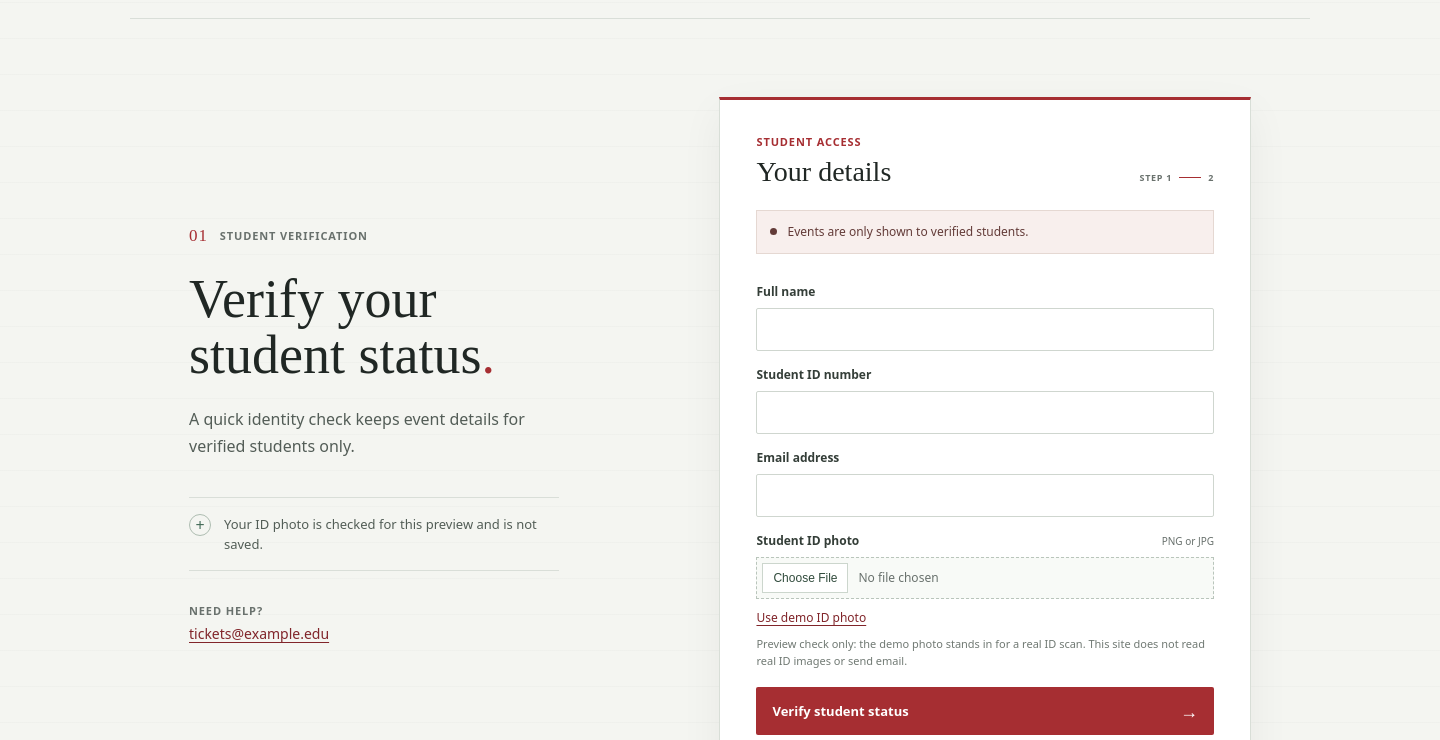
Test: HW3 Story 7: Reserve event tickets for attendees › shows the 10-minute hold, total, and refund policy
Type "Jamie Rivera" into the field labelled "Full name".
click(985, 330); type("Jamie Rivera")  # box [756,308,1214,351]
Type "A1234567" into the field labelled "Student ID number".
click(985, 412); type("A1234567")  # box [756,391,1214,434]
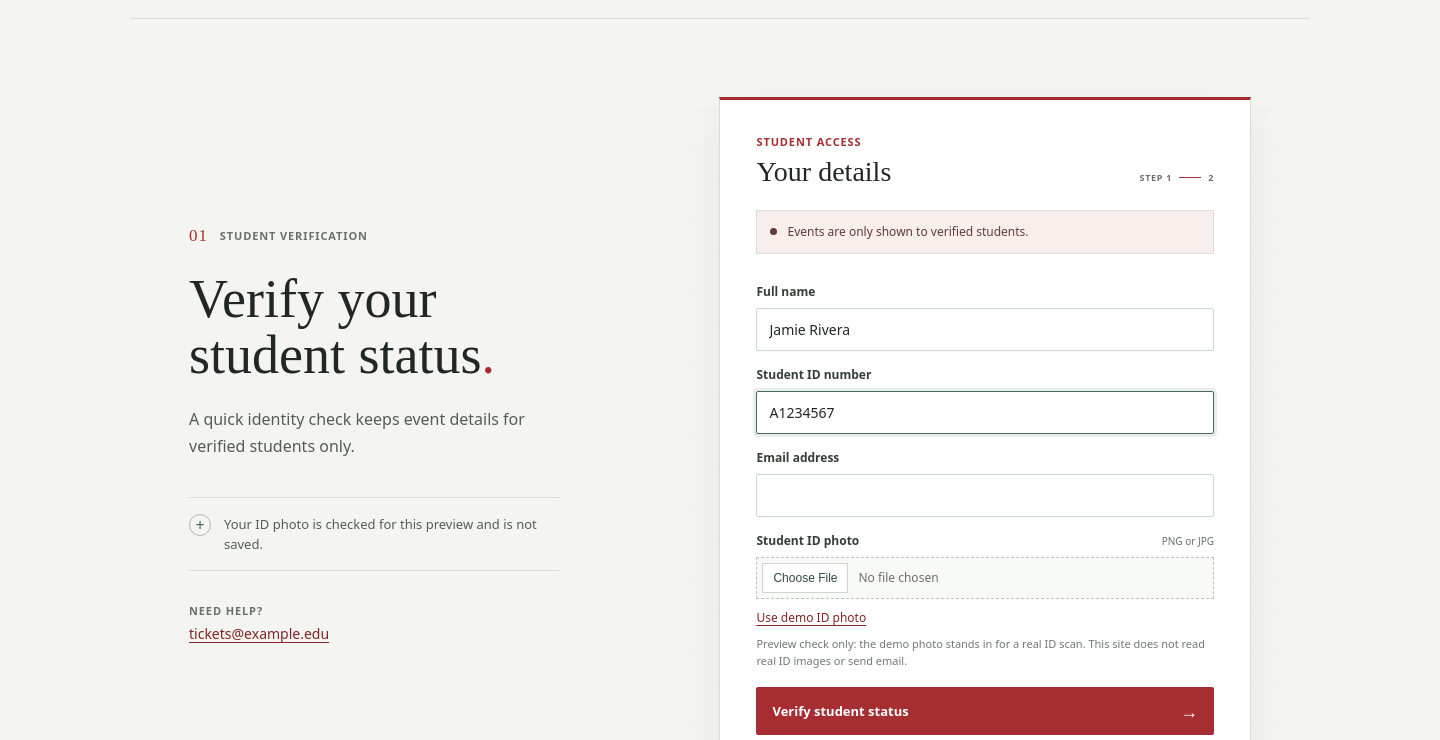
Type "jamie@example.edu" into the field labelled "Email address".
click(985, 496); type("jamie@example.edu")  # box [756,474,1214,517]
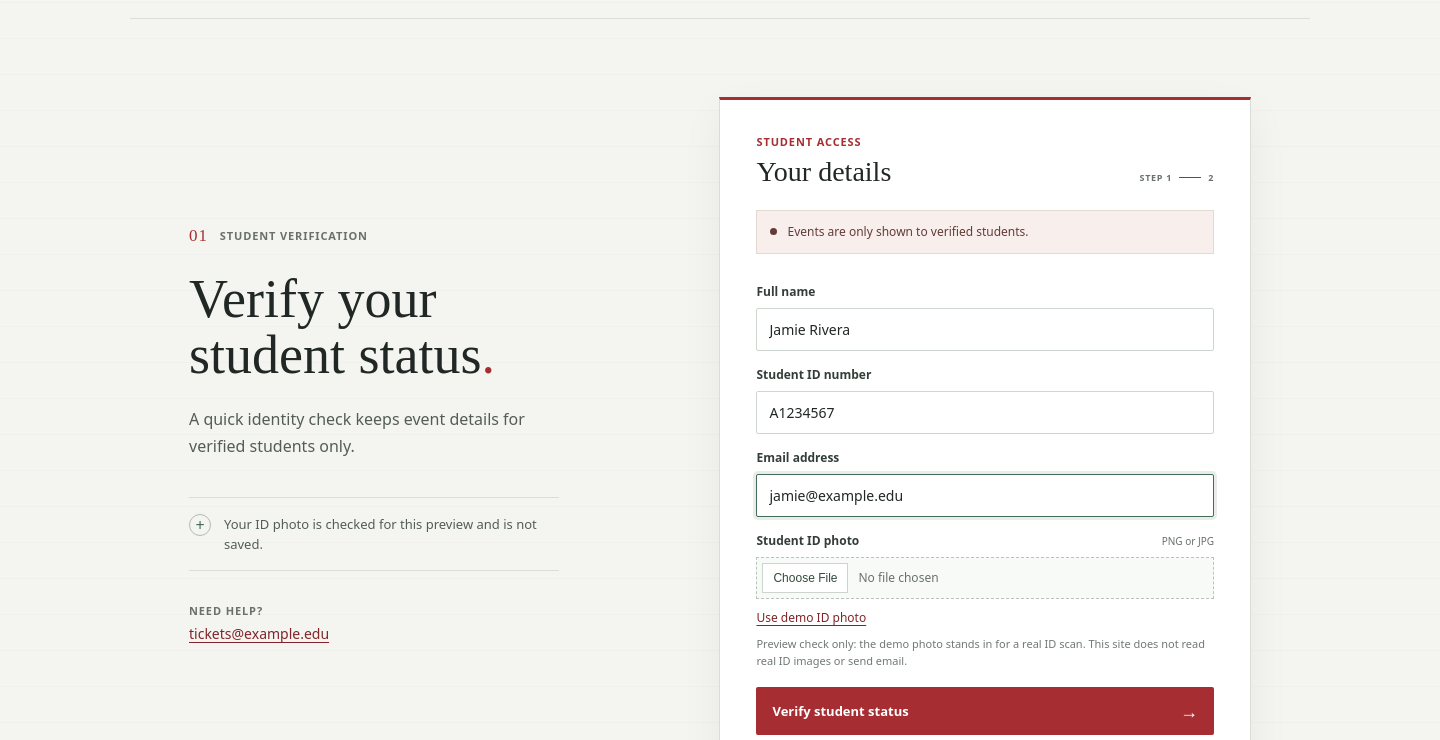
Click the button "Use demo ID photo".
click(811, 618)  # box [756,607,866,628]
(page scrolled)
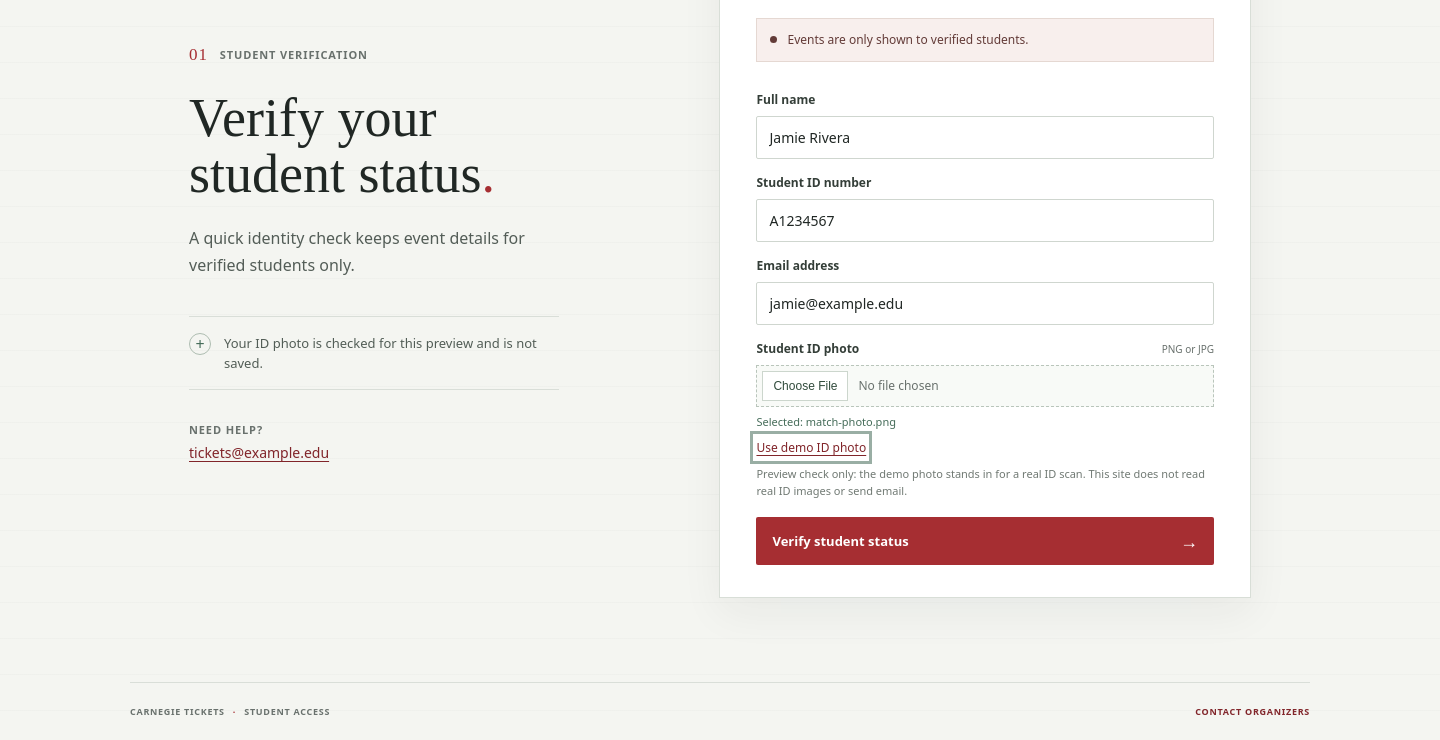
Click the button "Verify student status →".
click(841, 541)  # box [756,517,1214,565]
(page scrolled)
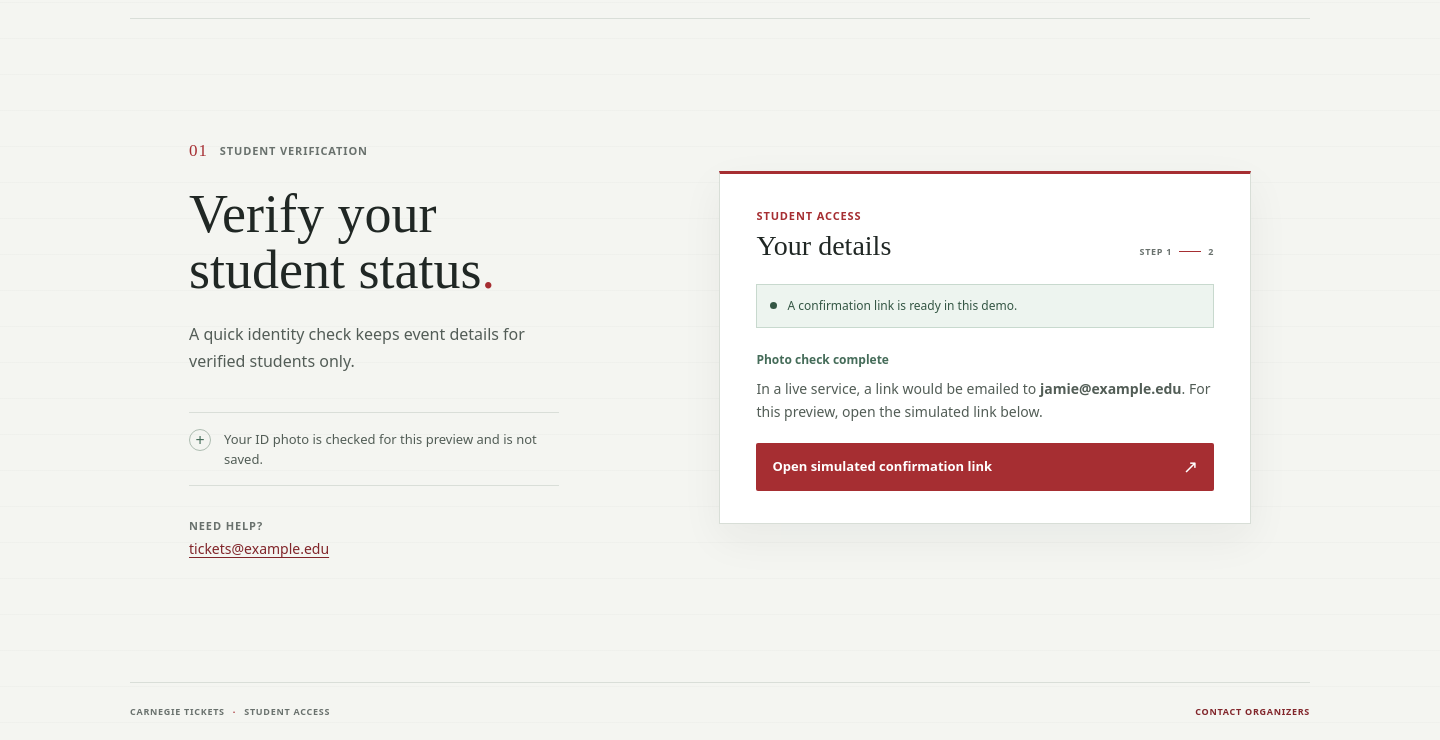
Click the button "Open simulated confirmation link ↗".
click(985, 467)  # box [756,443,1214,491]
(page scrolled)
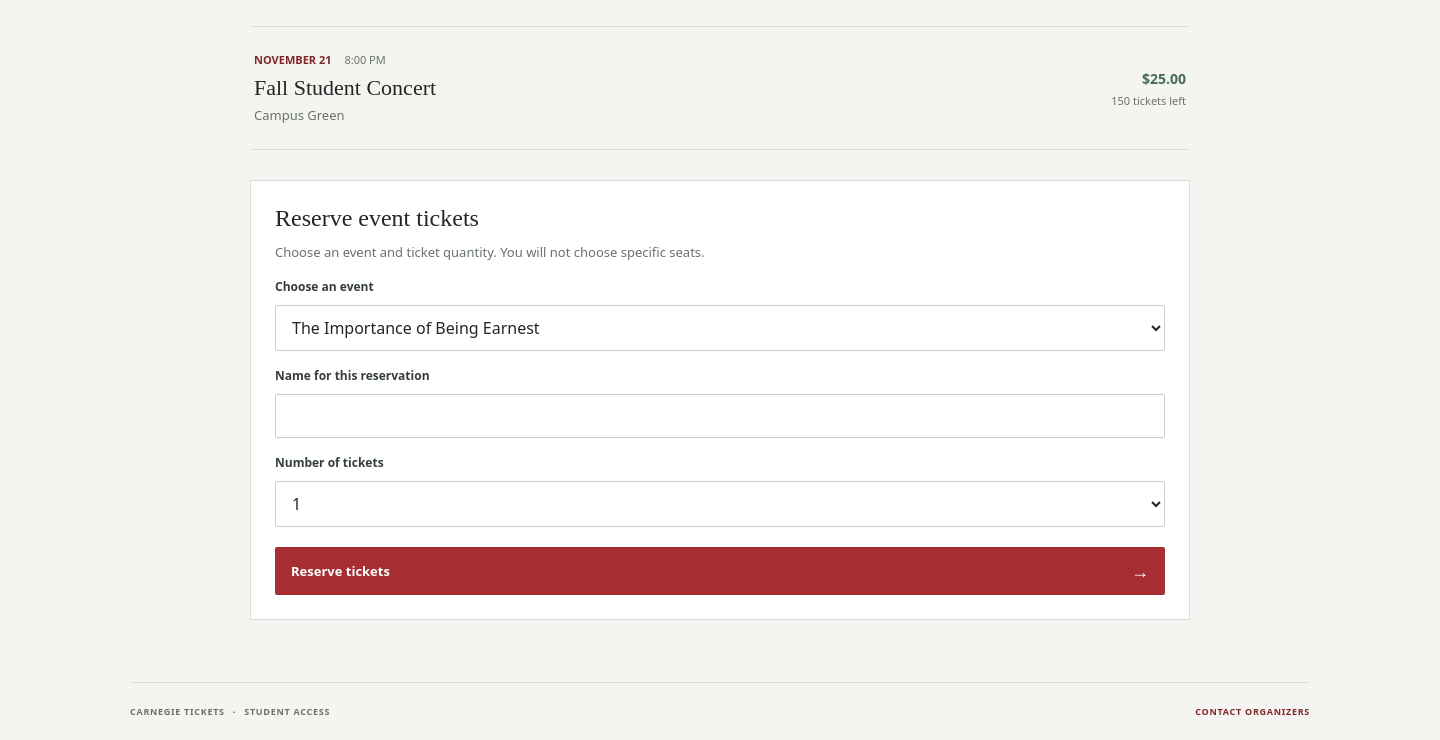
Type "Jamie Rivera" into the field labelled "Name for this reservation".
click(720, 416); type("Jamie Rivera")  # box [275,394,1165,438]
Click the button "Reserve tickets →".
click(340, 571)  # box [275,547,1165,595]
(page scrolled)
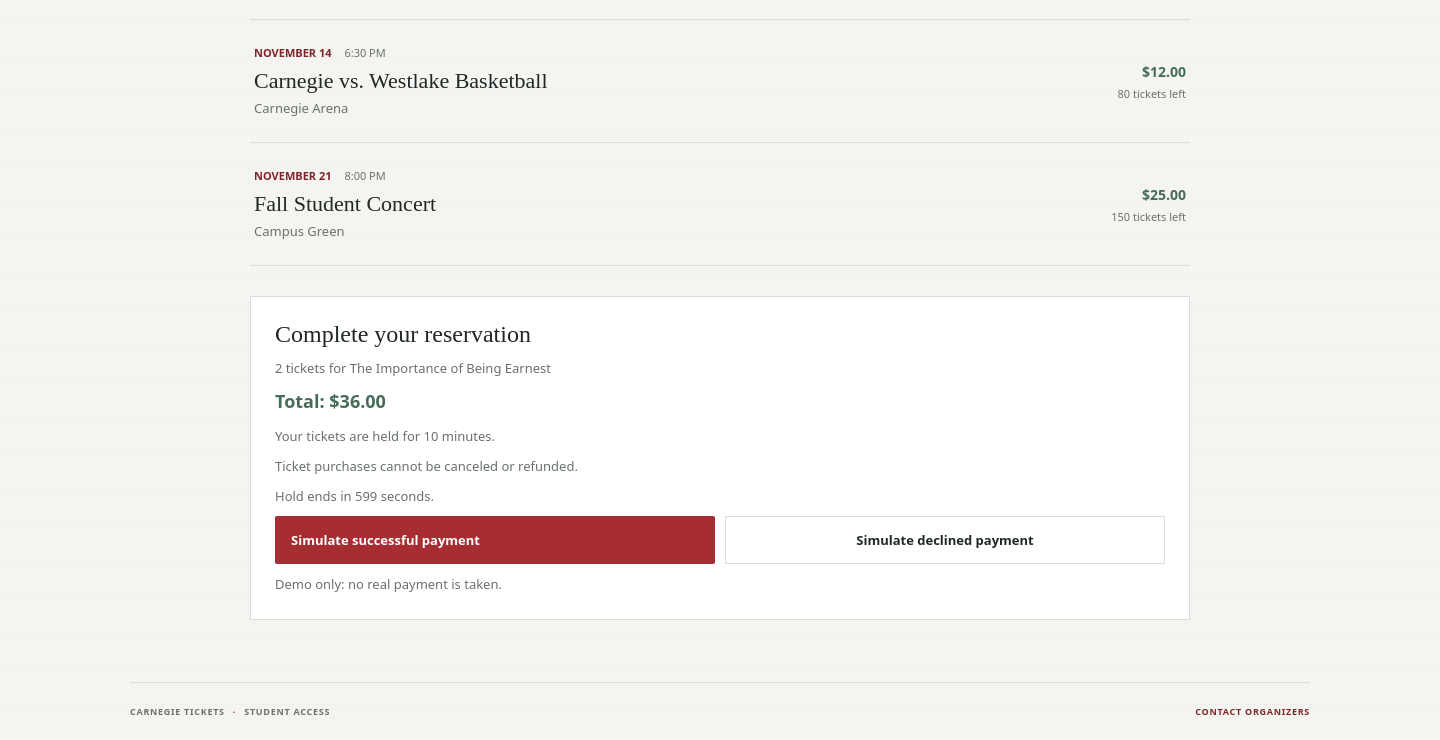
Now the text "Total: $36.00" is shown, box [275,389,386,413]
Now the text "Your tickets are held for 10 minutes." is shown, box [275,427,495,445]
Now the text "Ticket purchases cannot be canceled or refunded." is shown, box [275,457,578,475]
